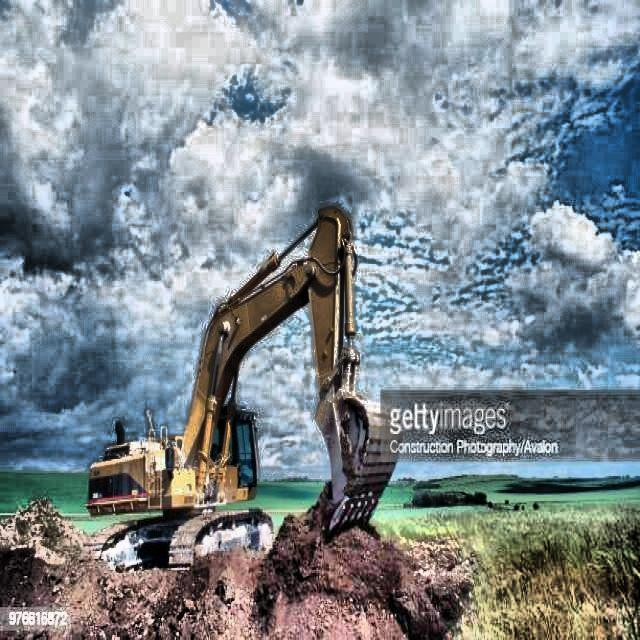excavator: (84, 202, 401, 573)
